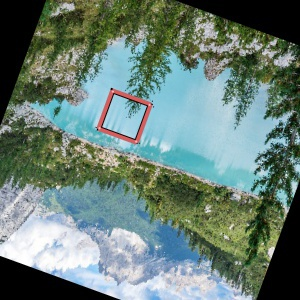square: (95, 87, 154, 145)
